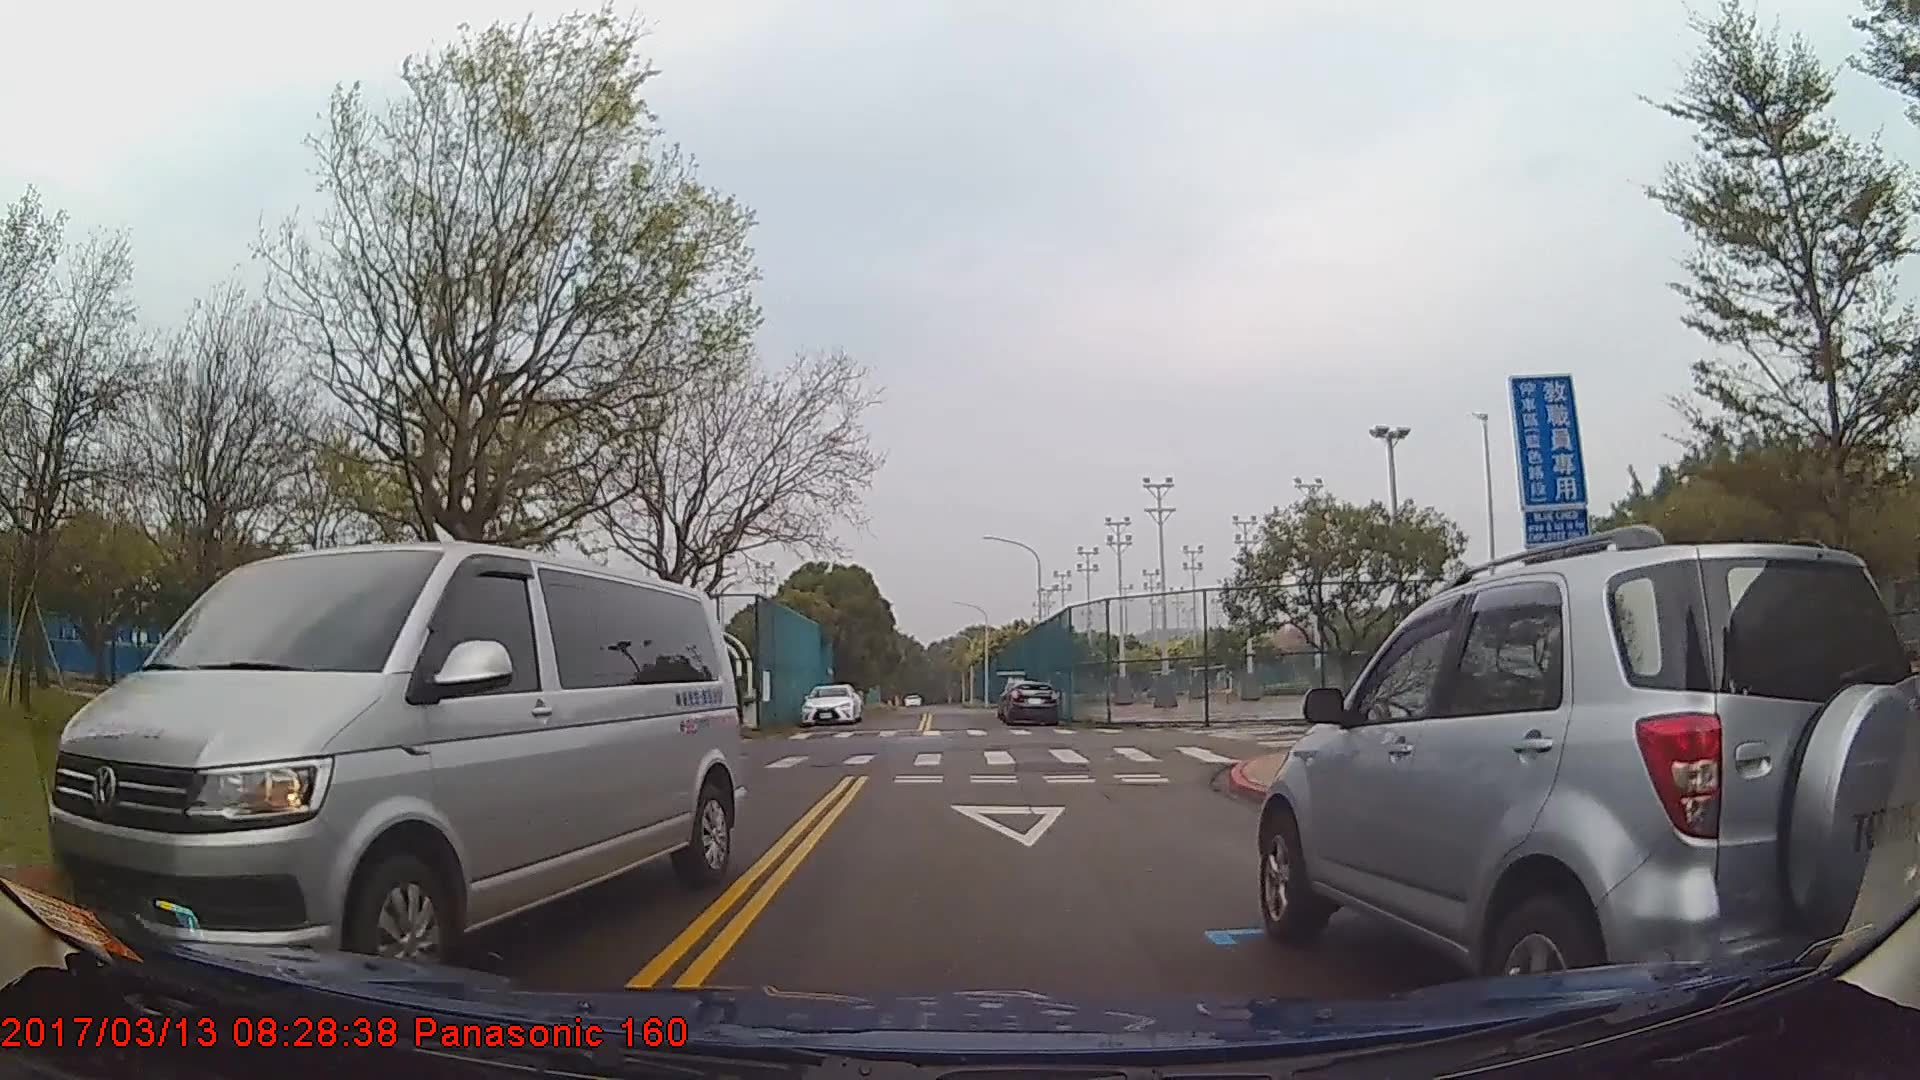vehicle: (1255, 541, 1920, 1038), (47, 535, 744, 993), (798, 680, 860, 725), (1002, 680, 1058, 727)
